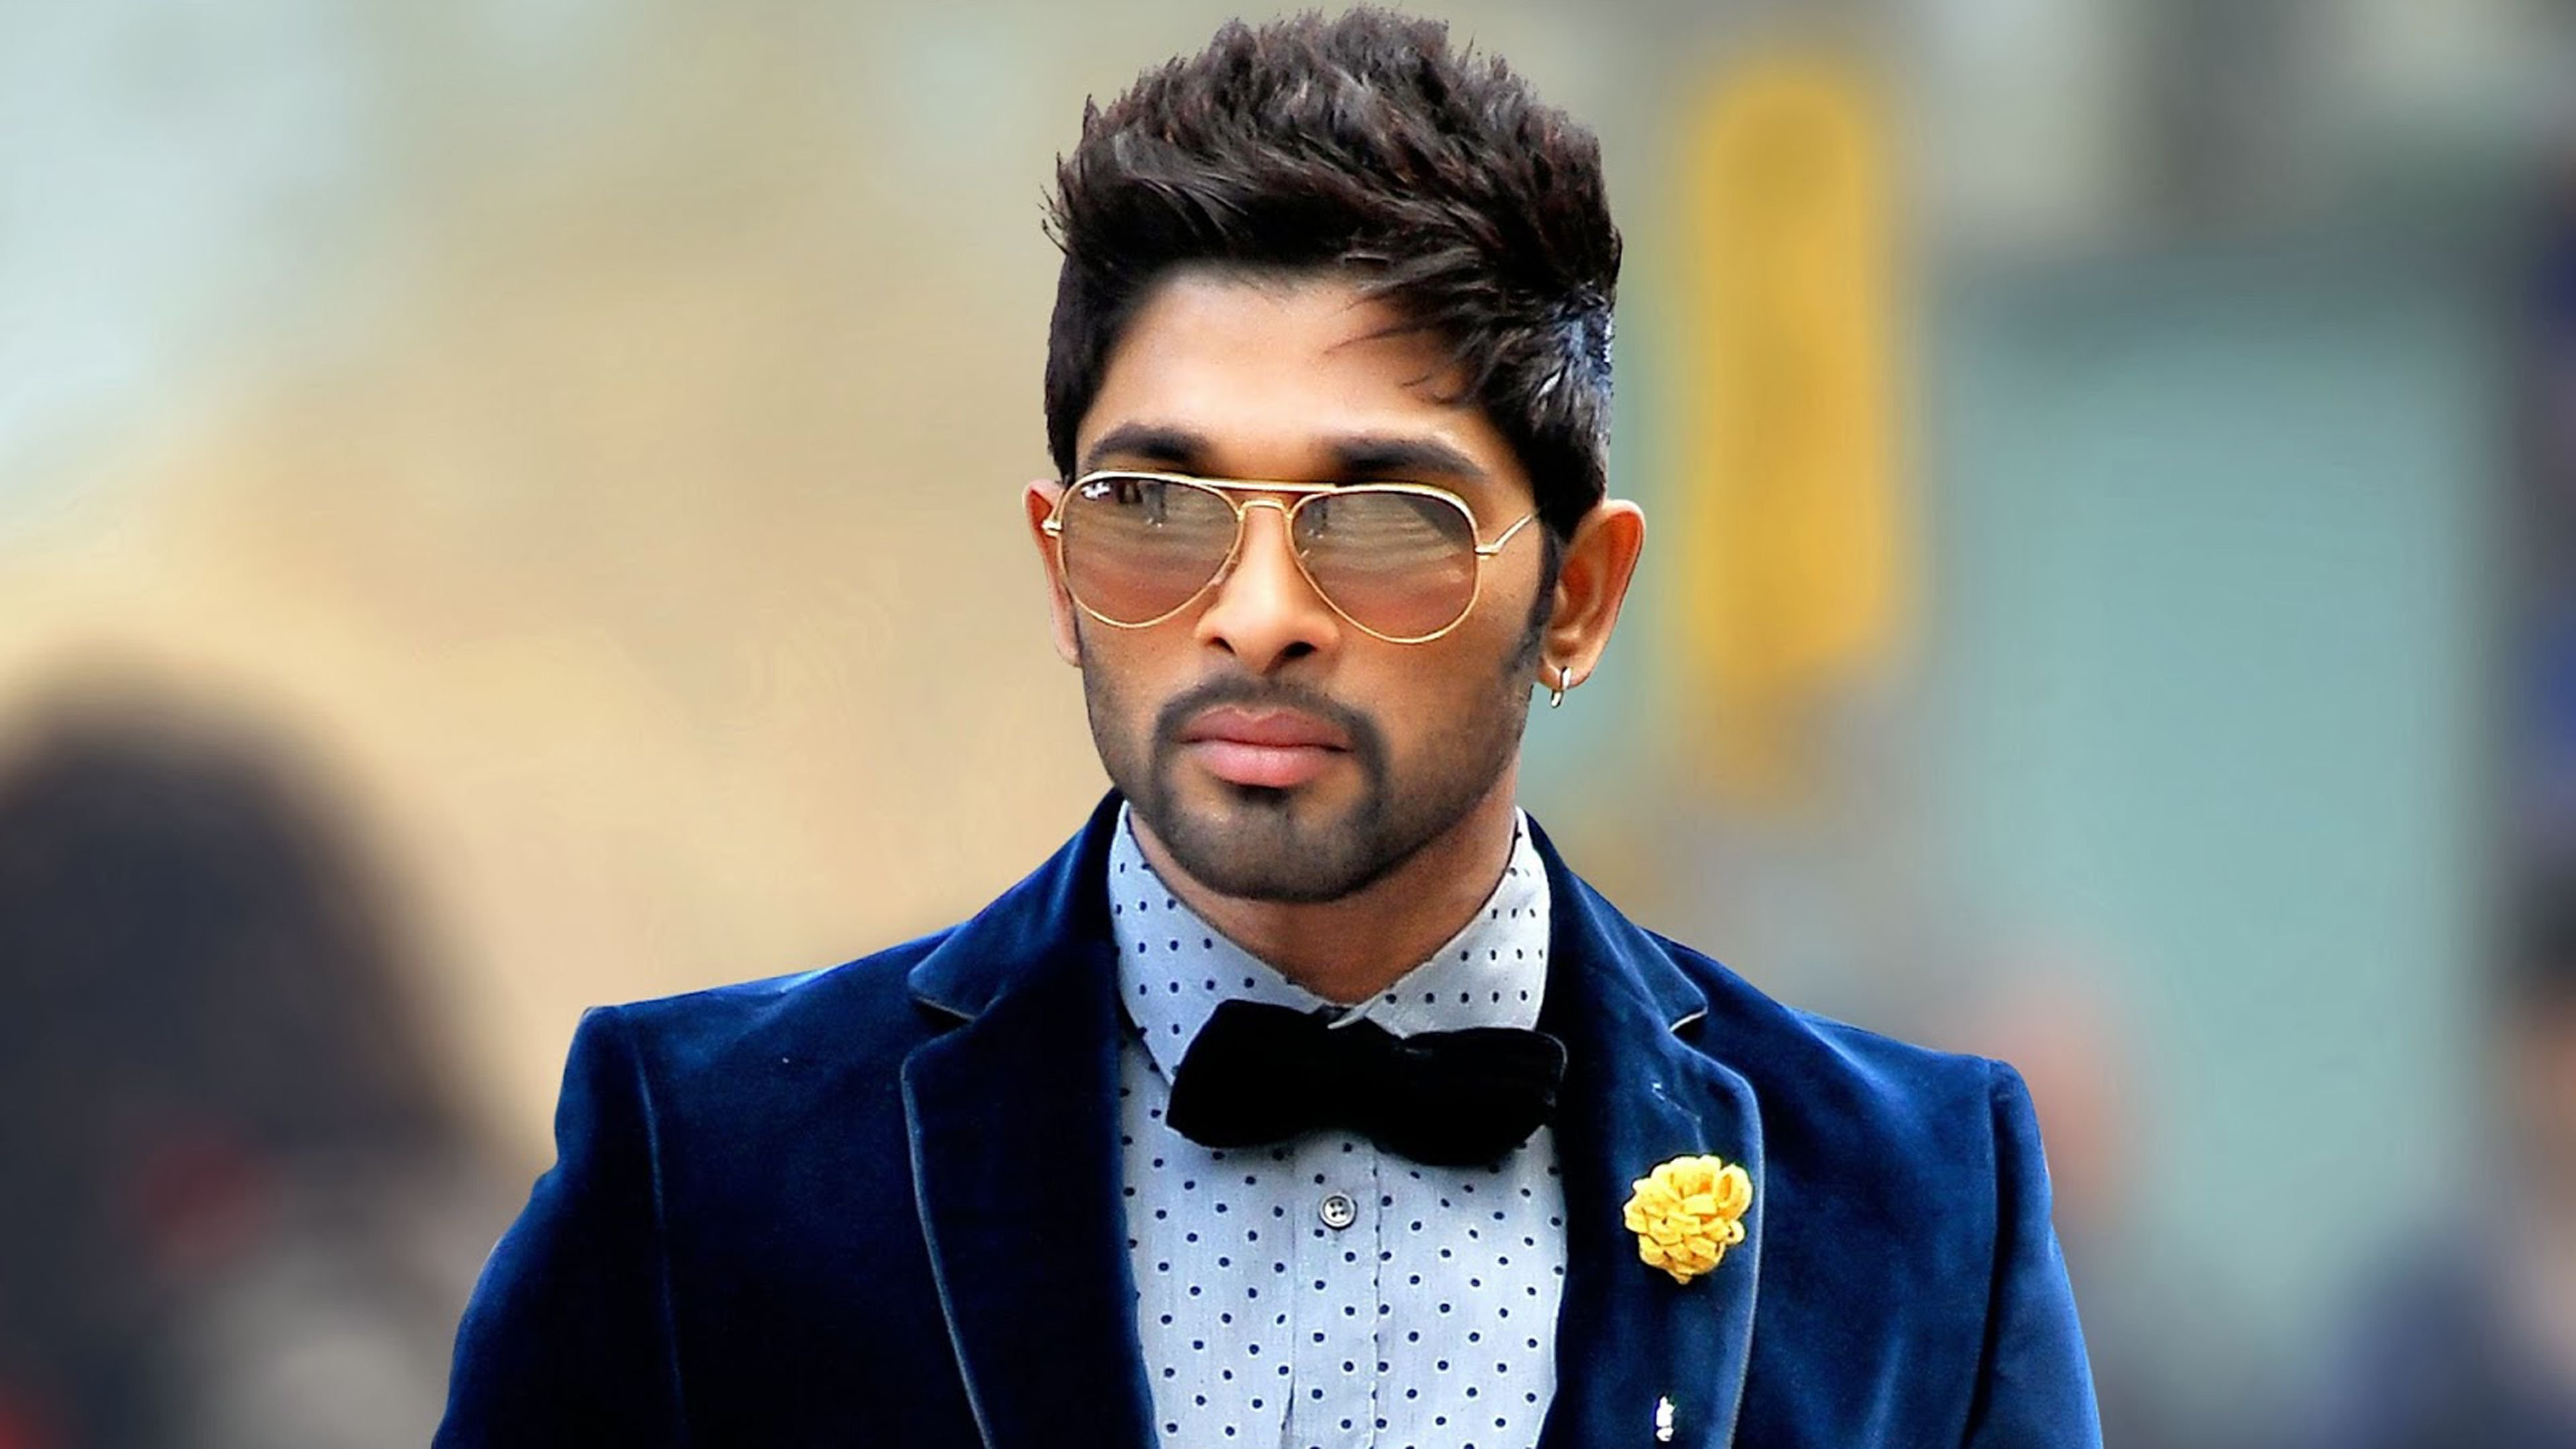noMask: (973, 13, 1676, 889)
